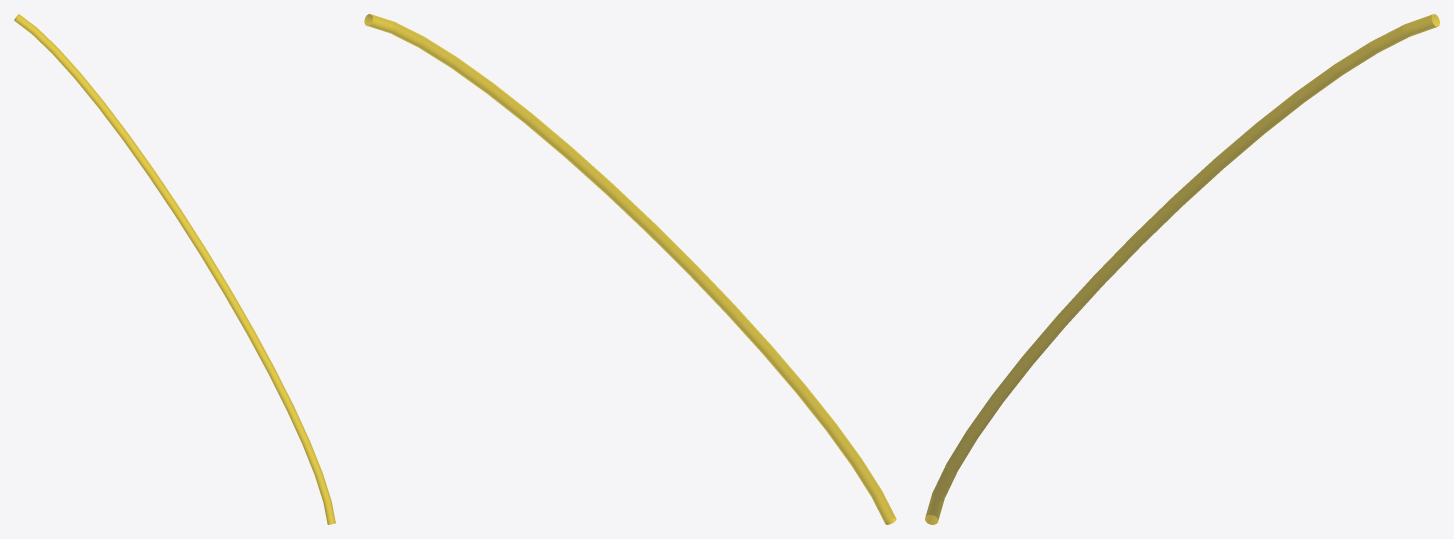
The model's file is Event_75125125_track_60.fbx.
3 views of the same model, side by side, from view 1: azimuth 90°, elevation 25°; view 2: azimuth 150°, elevation 25°; view 3: azimuth 270°, elevation 25° (orthographic). The views are drawn at different scales.
Visible parts, largest first — view 1: Model; view 2: Model; view 3: Model.
Part boxes in pixels (x1=…): Model: x1=14, y1=14, x2=335, y2=524; Model: x1=364, y1=14, x2=896, y2=524; Model: x1=925, y1=14, x2=1439, y2=524.
Size of the model in its own units: 1.12 by 2.16 by 1.52.
